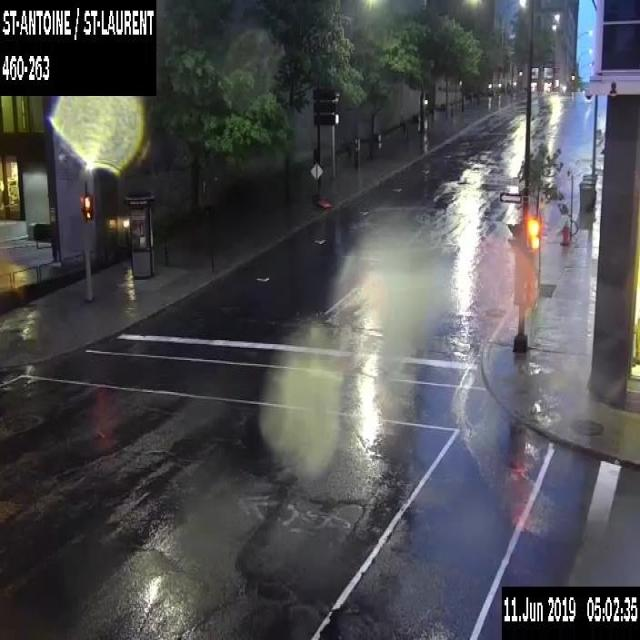construction: (312, 192, 332, 208)
